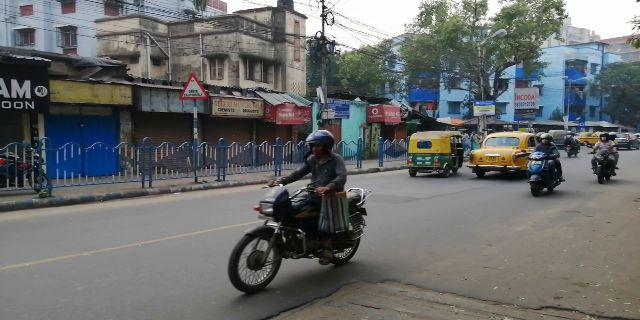Autorickshaw: (407, 130, 456, 182)
Car: (467, 130, 537, 180)
Motorbike: (224, 128, 374, 293), (529, 136, 562, 193), (586, 134, 620, 185)
